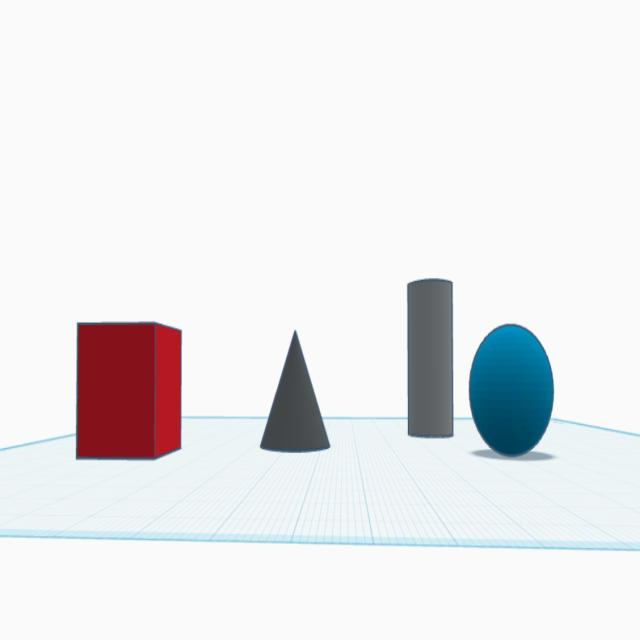cone: (258, 324, 332, 455)
cube: (73, 309, 184, 467)
sphere: (467, 317, 555, 458)
